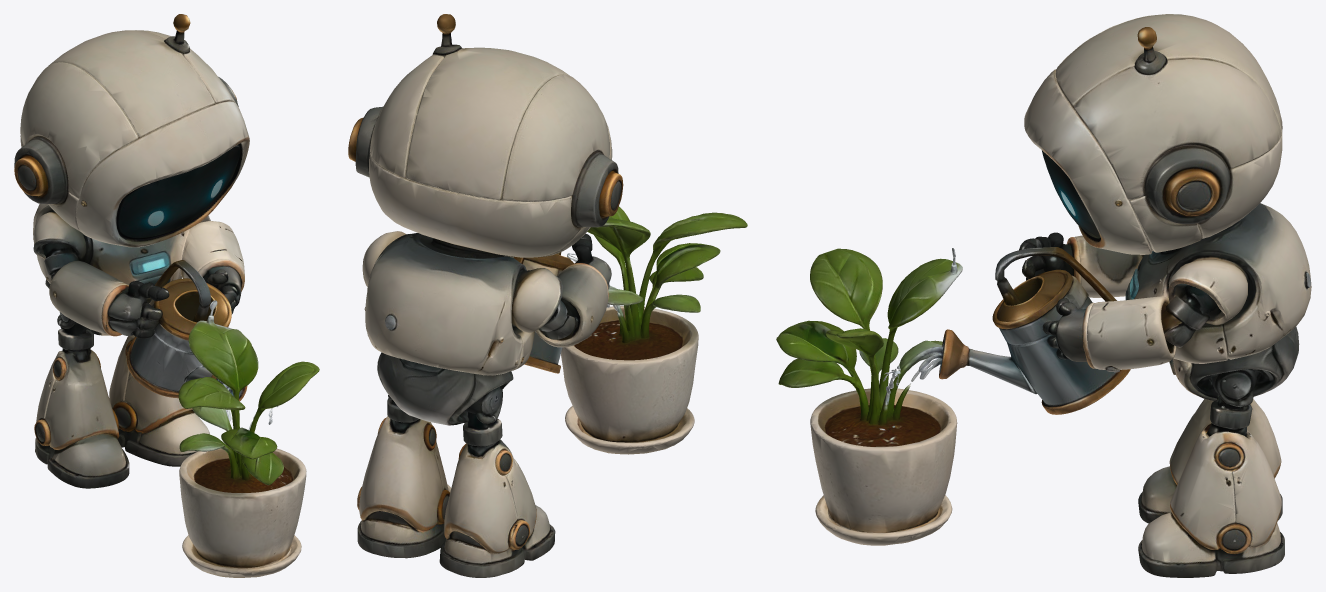
The model's file is robot.glb.
3 views of the same model, side by side, from view 1: azimuth 30°, elevation 25°; view 2: azimuth 150°, elevation 25°; view 3: azimuth 270°, elevation 25° (orthographic). The views are drawn at different scales.
Parts seen in each view (by area): view 1: model; view 2: model; view 3: model.
Boxes of the visible parts, box(x1,y1,x2,y2) form: model: box(14, 14, 319, 577); model: box(348, 14, 747, 577); model: box(776, 14, 1311, 577).
Size of the model in its own units: 0.9876 by 1.9 by 1.75.
Materials: 1 (1 with a texture image).
